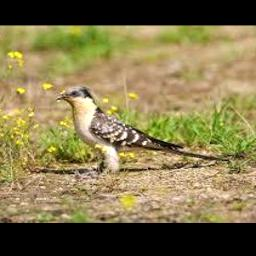Cuckoo: (56, 86, 228, 174)
